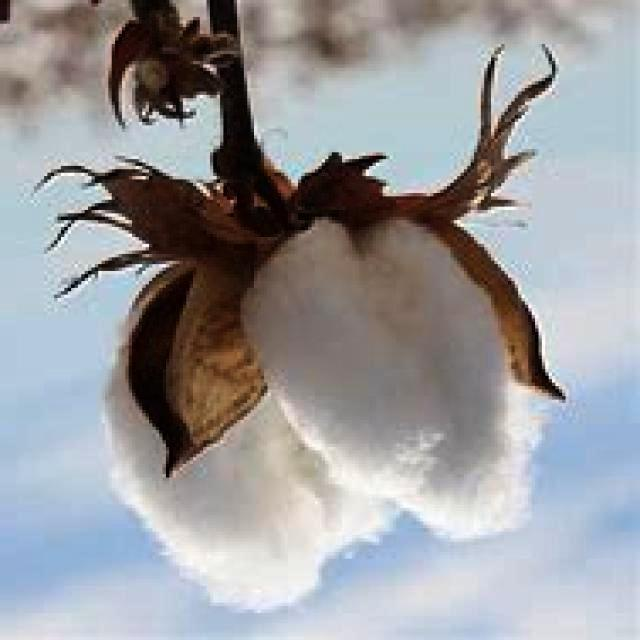Matured Cotton Boll: (99, 165, 548, 619)
